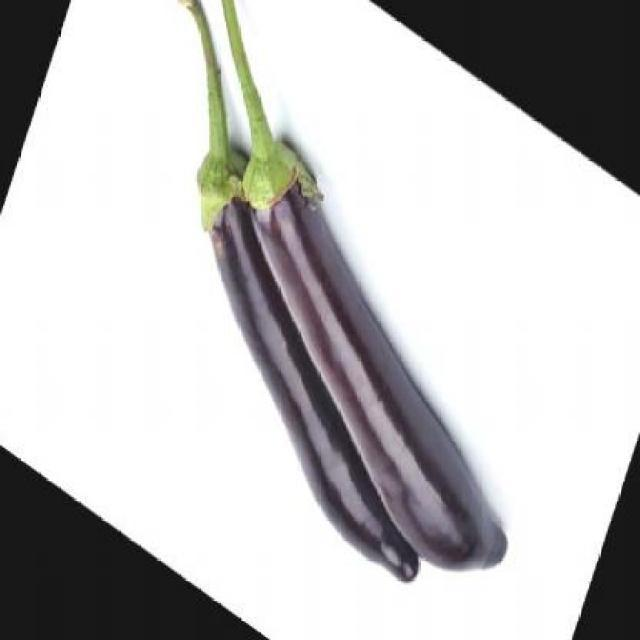eggplant: (178, 0, 510, 584), (210, 0, 501, 570)
